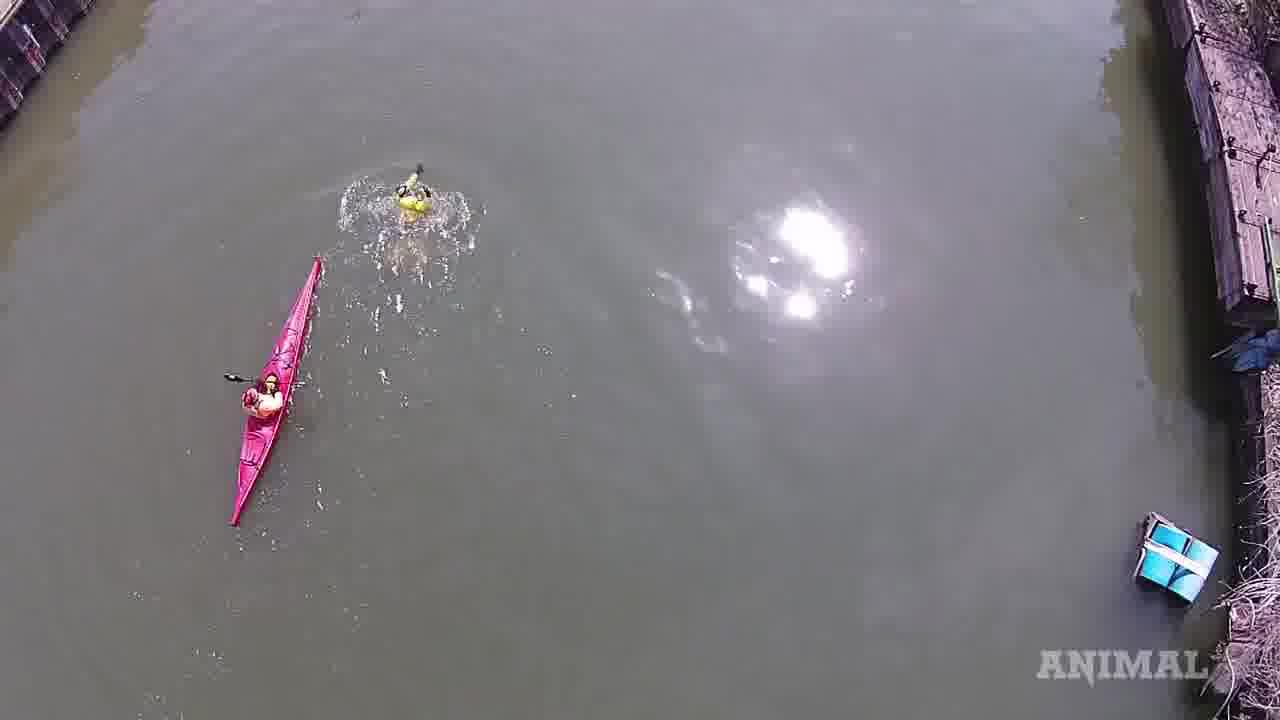human: (371, 153, 444, 245)
